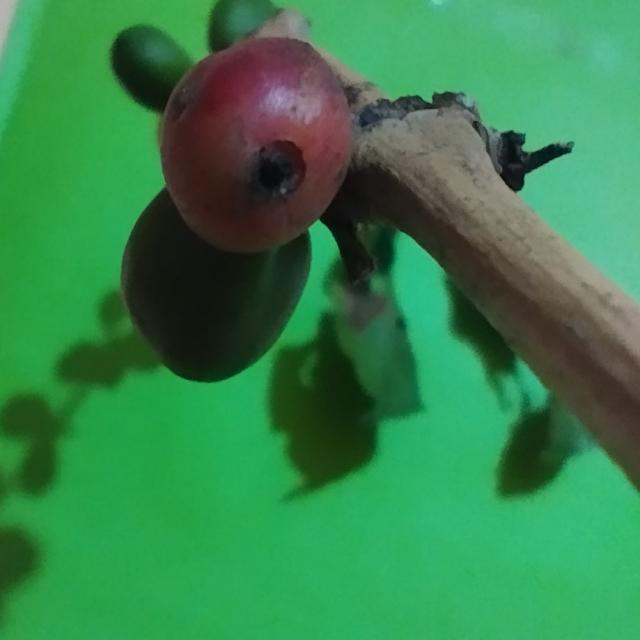Infectado: (159, 40, 353, 254)
Sano: (121, 188, 312, 384)
